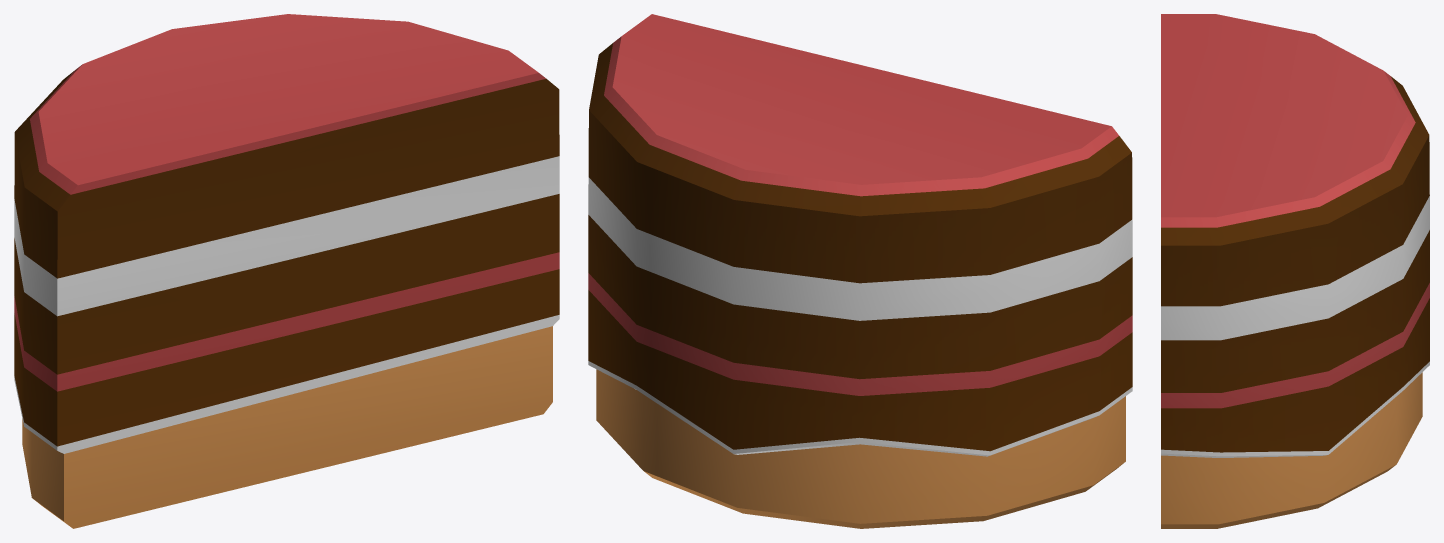
File: Cake_3 Half_1.fbx
3 views of the same model, side by side, from view 1: azimuth 30°, elevation 25°; view 2: azimuth 150°, elevation 25°; view 3: azimuth 270°, elevation 25° (orthographic). The views are drawn at different scales.
Parts seen in each view (by area): view 1: Cake_3 Half_1; view 2: Cake_3 Half_1; view 3: Cake_3 Half_1.
Boxes of the visible parts, box(x1,y1,x2,y2) form: Cake_3 Half_1: box(14, 14, 559, 528); Cake_3 Half_1: box(588, 14, 1132, 528); Cake_3 Half_1: box(1161, 14, 1429, 528).
Size of the model in its own units: 0.2645 by 0.1723 by 0.1356.
